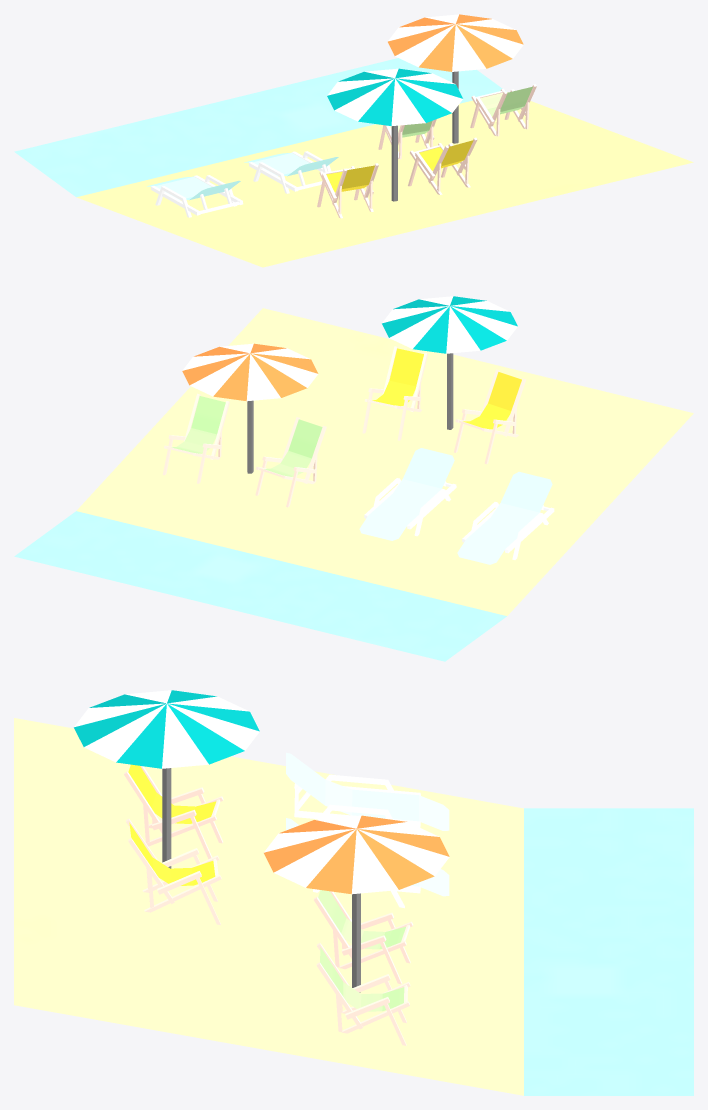
File: beach_tile_1x1_6.glb
3 views of the same model, one above another, from view 1: azimuth 30°, elevation 25°; view 2: azimuth 150°, elevation 25°; view 3: azimuth 270°, elevation 25° (orthographic). The views are drawn at different scales.
Parts seen in each view (by area): view 1: beach_tile_1x1_6(Clone); view 2: beach_tile_1x1_6(Clone); view 3: beach_tile_1x1_6(Clone).
Boxes of the visible parts, x1,y1,x2,y2 form: beach_tile_1x1_6(Clone): (14, 14, 693, 267); beach_tile_1x1_6(Clone): (14, 296, 693, 661); beach_tile_1x1_6(Clone): (14, 690, 693, 1095).
Bounding box in the file's own units: 8 × 2.99 × 8.
Materials: 1 (1 with a texture image).
